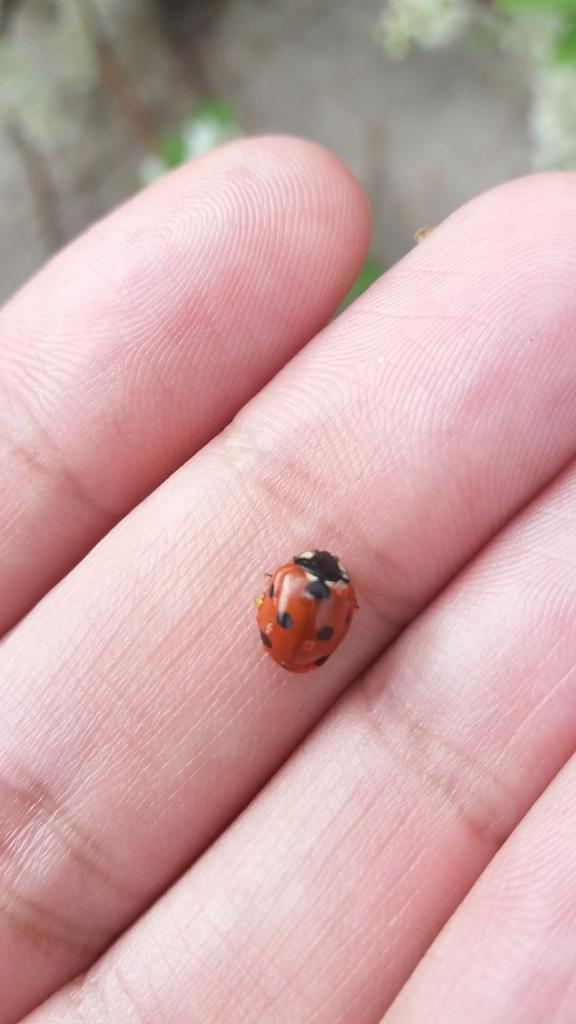ladybug: (255, 548, 363, 677)
